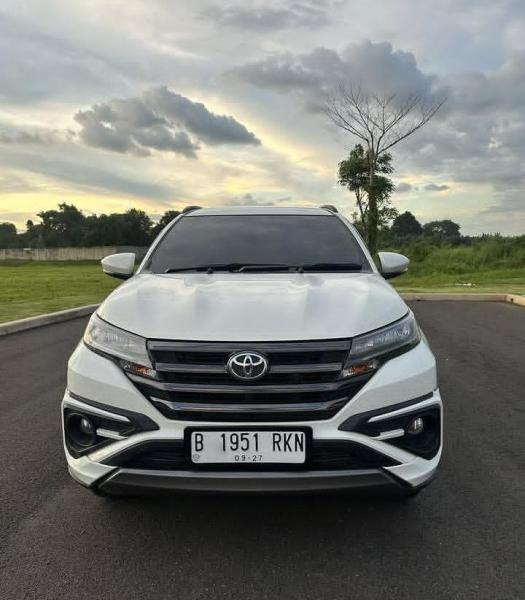plat nomor: (188, 425, 307, 466)
